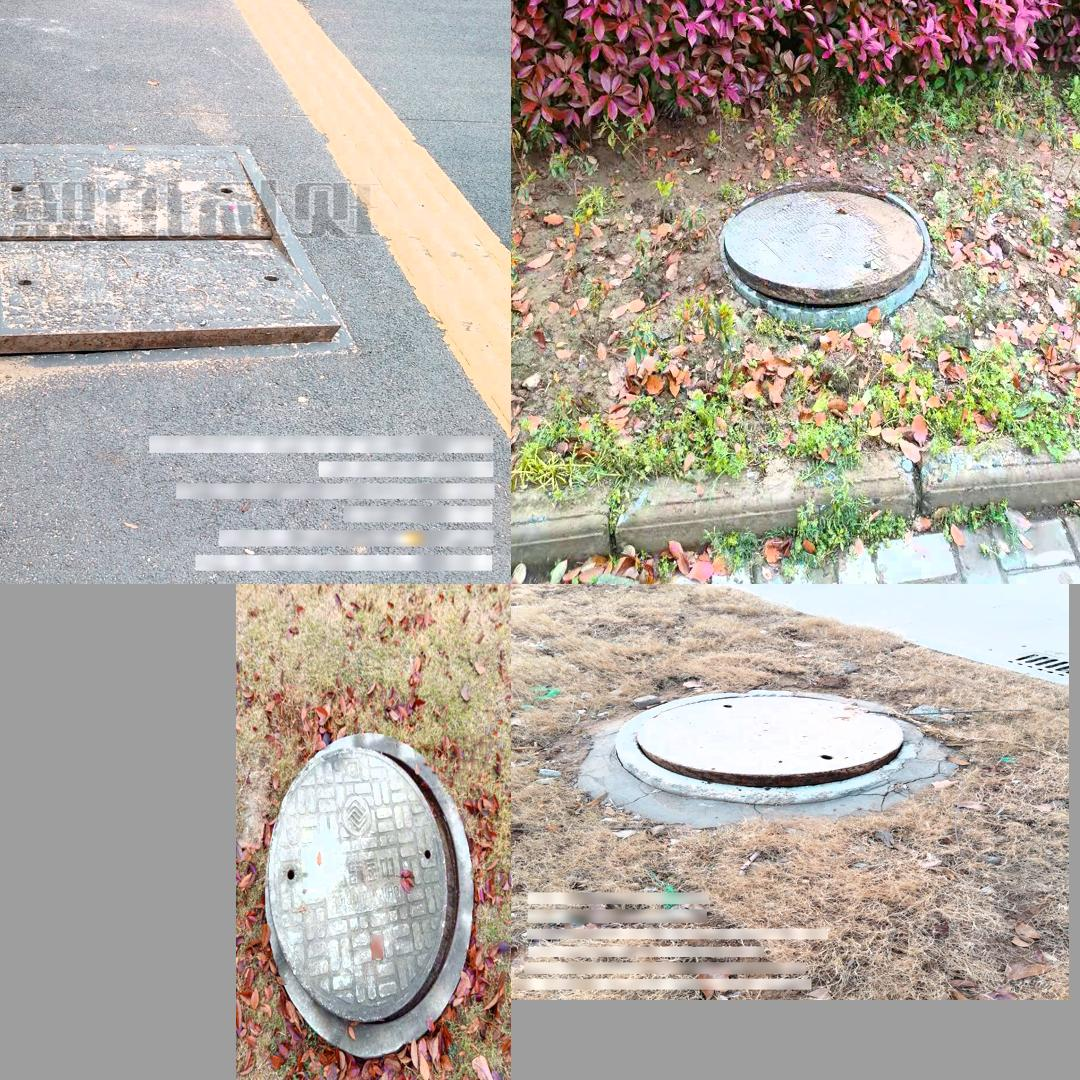uncovered: (0, 143, 362, 372), (265, 729, 474, 1060), (615, 690, 919, 807), (718, 156, 937, 308)
